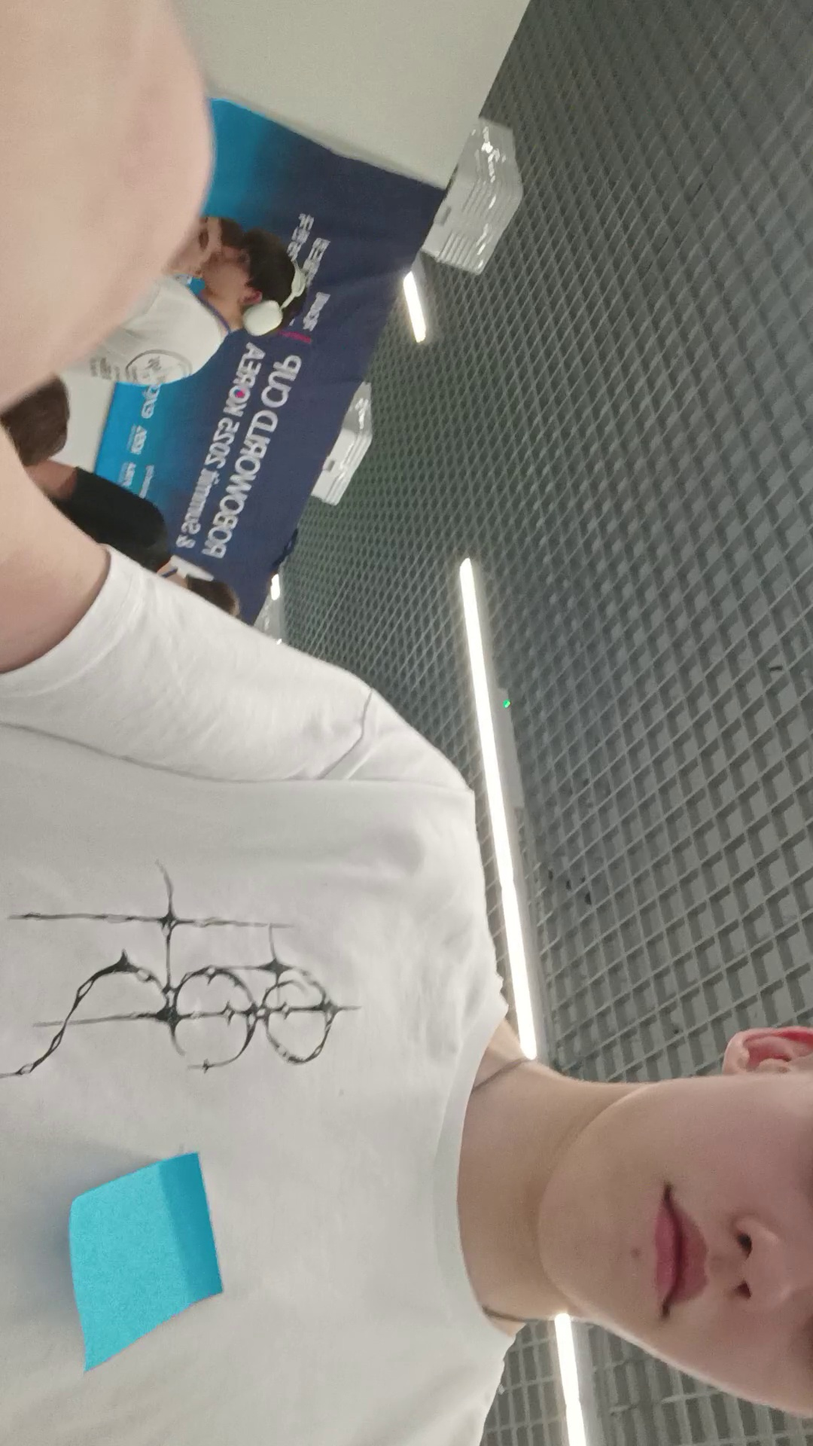marker: (76, 1154, 221, 1364), (95, 380, 197, 501), (206, 100, 279, 226), (108, 1219, 123, 1236), (191, 280, 202, 292), (121, 1212, 130, 1222), (115, 1235, 123, 1242), (127, 1230, 133, 1238), (133, 1207, 139, 1213)
